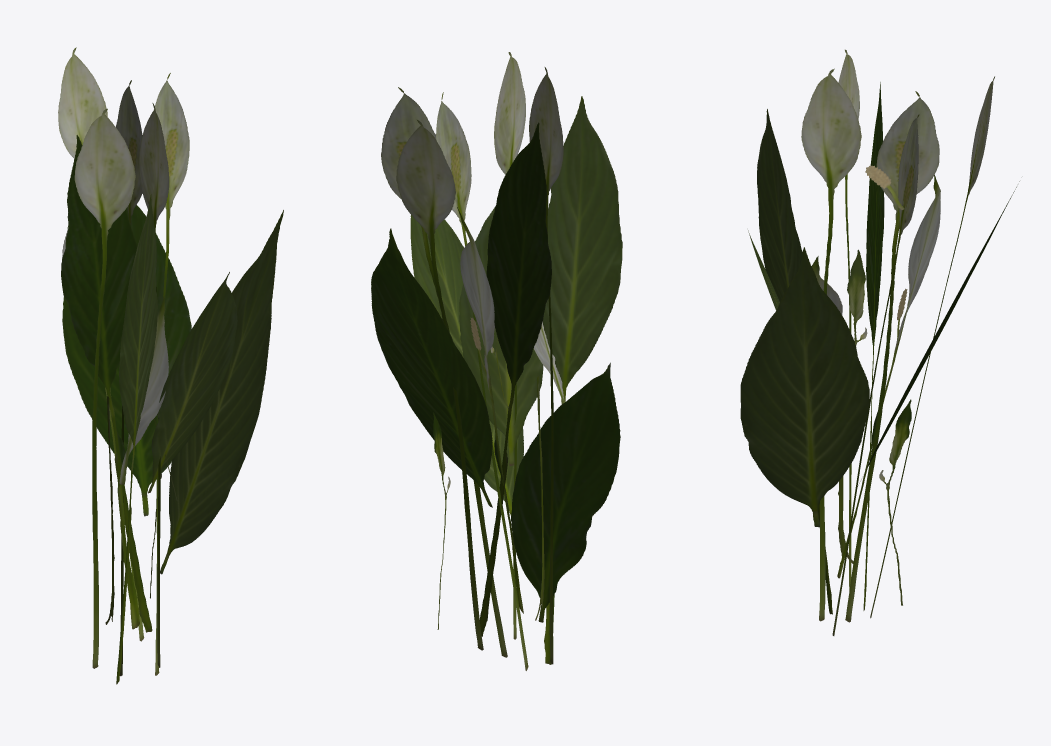
File: flowers_lily_small.fbx
The picture shows the model from 3 angles, left to right: view 1: azimuth 30°, elevation 25°; view 2: azimuth 150°, elevation 25°; view 3: azimuth 270°, elevation 25°; orthographic projection. The views are drawn at different scales.
Parts seen in each view (by area): view 1: Plane_009; view 2: Plane_009; view 3: Plane_009.
Boxes of the visible parts, x1=… form: Plane_009: x1=58, y1=47, x2=283, y2=684; Plane_009: x1=371, y1=52, x2=622, y2=670; Plane_009: x1=740, y1=49, x2=1019, y2=635.
Size of the model in its own units: 80.48 by 211 by 93.85.
